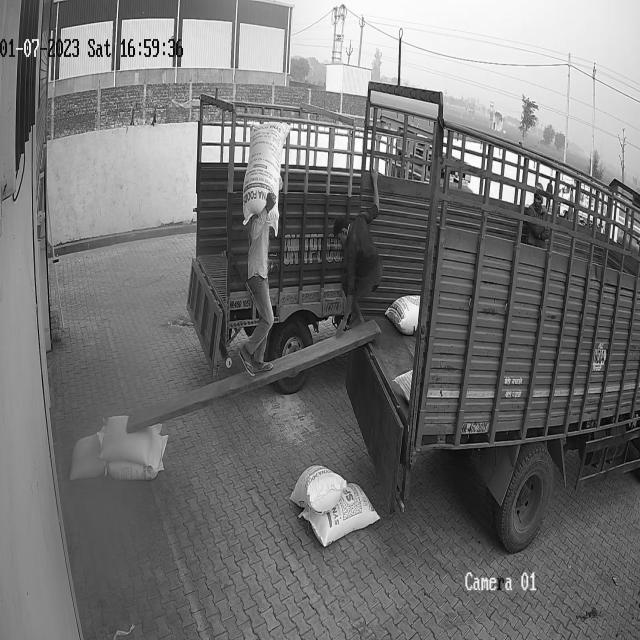sack: (242, 119, 290, 232), (300, 482, 380, 548), (98, 415, 162, 466), (106, 434, 168, 481), (289, 463, 345, 512), (69, 432, 105, 481)
